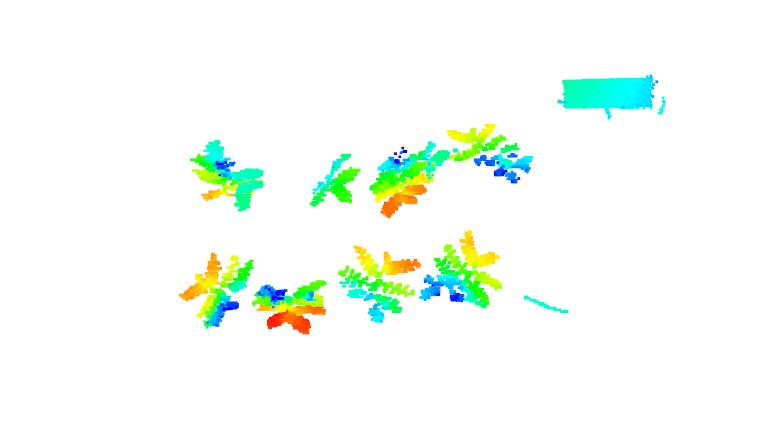chickpea: (416, 230, 503, 311), (336, 243, 419, 326), (176, 252, 254, 333), (368, 144, 452, 215), (190, 137, 264, 213), (446, 122, 536, 184), (249, 275, 331, 338), (306, 150, 359, 209)
